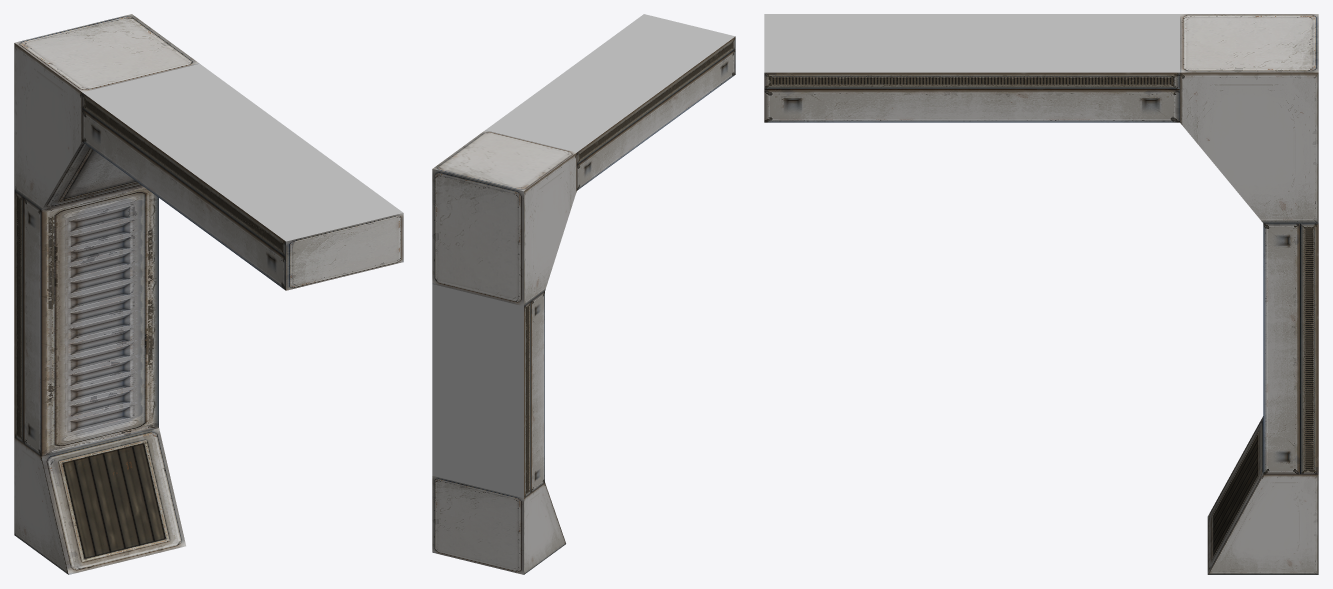
The model's file is scifi_portal_half.FBX.
The picture shows the model from 3 angles, left to right: view 1: azimuth 30°, elevation 25°; view 2: azimuth 150°, elevation 25°; view 3: azimuth 270°, elevation 25°; orthographic projection. The views are drawn at different scales.
Visible parts, largest first — view 1: Box008; view 2: Box008; view 3: Box008.
Boxes of the visible parts, box(x1,y1,x2,y2) form: Box008: box(14, 14, 403, 574); Box008: box(432, 14, 735, 574); Box008: box(764, 14, 1318, 574).
Size of the model in its own units: 127 by 508 by 508.
